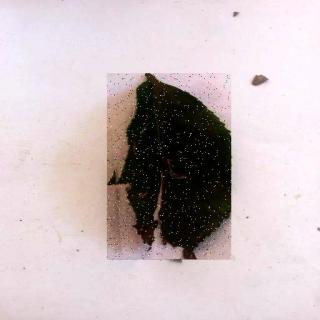Brown Blight: (108, 75, 232, 262)
